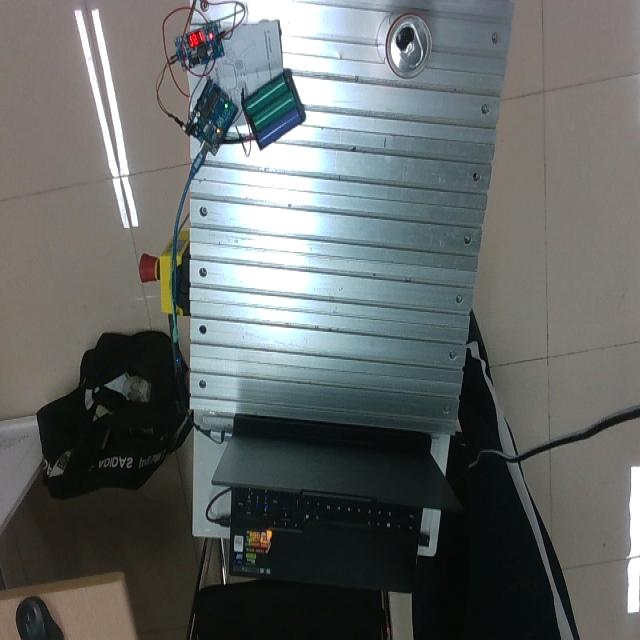coca: (384, 12, 433, 80)
